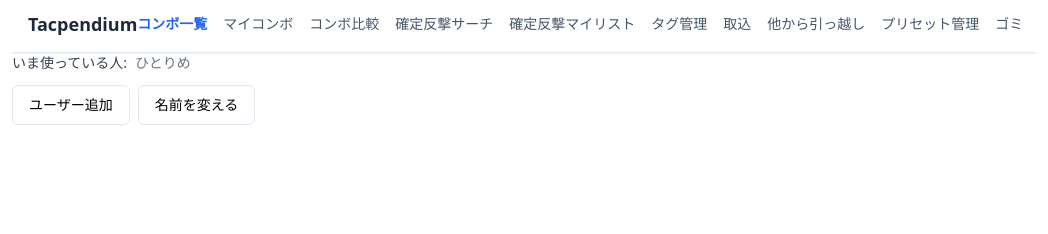
it: M22-08 利用者の改名 › 空のままでは送れない
Click the button with test id "settings-user-rename" at (196, 105), box [138,85,255,125]
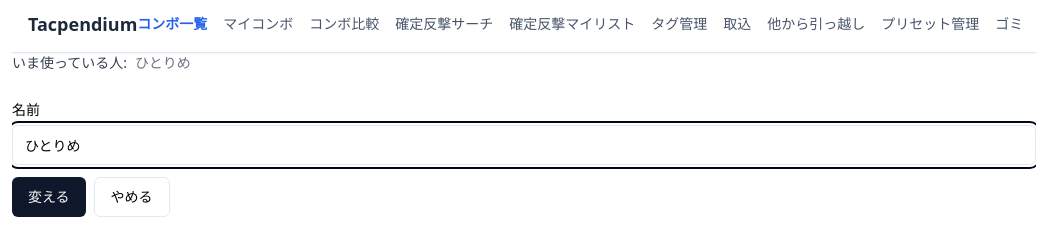
Clear the field with test id "settings-user-rename-name" at (524, 145), box [12,125,1036,165]
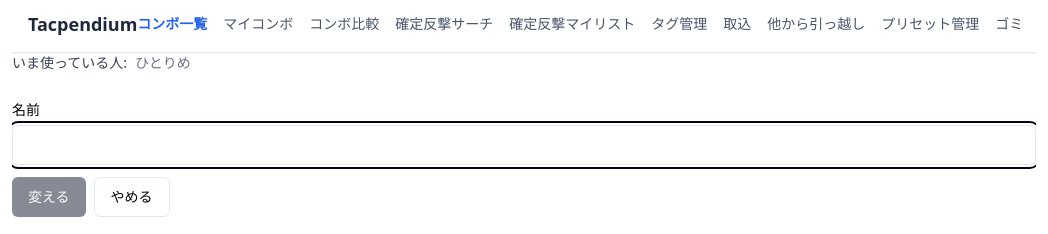
Result: the button with test id "settings-user-rename-submit" is disabled at [12,177,86,217]
